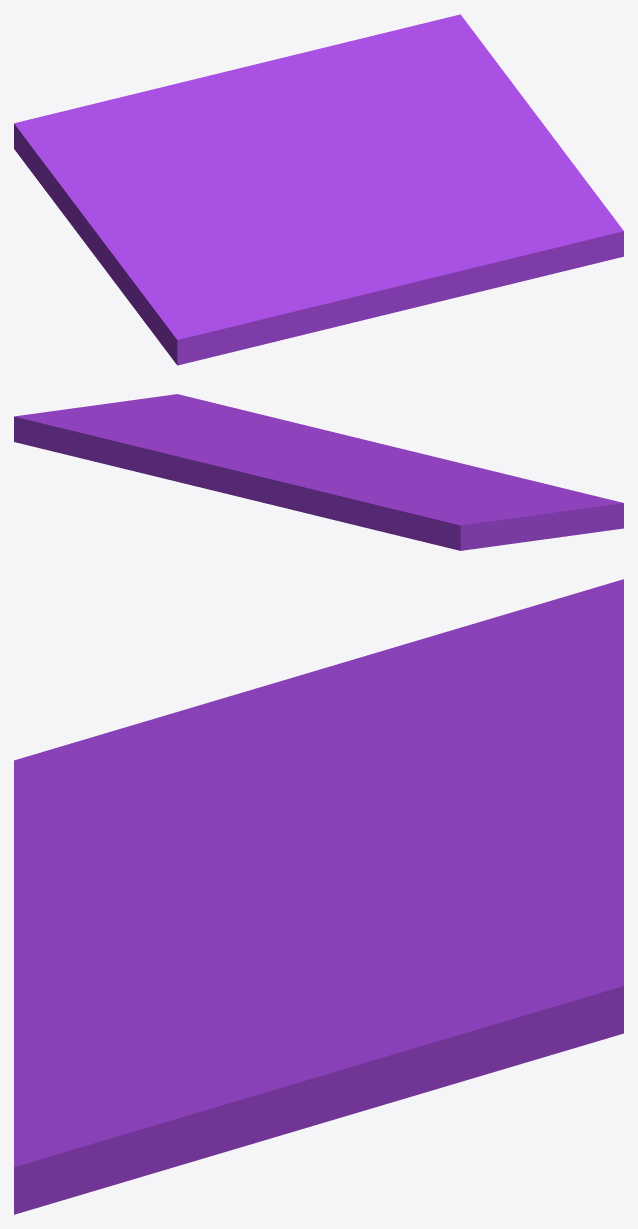
File: Window_155_chunks.fbx
3 views of the same model, one above another, from view 1: azimuth 30°, elevation 25°; view 2: azimuth 150°, elevation 25°; view 3: azimuth 270°, elevation 25° (orthographic). The views are drawn at different scales.
Parts seen in each view (by area): view 1: Window_155_0, Window_155_2, Window_155_3; view 2: Window_155_0, Window_155_3, Window_155_2; view 3: Window_155_0, Window_155_3, Window_155_2.
Part boxes in pixels (x1,y1,x2,y2): Window_155_0: [14, 90, 318, 365]; Window_155_2: [308, 129, 623, 333]; Window_155_3: [149, 14, 546, 180]; Window_155_0: [317, 460, 623, 550]; Window_155_3: [14, 404, 325, 515]; Window_155_2: [101, 394, 491, 470]; Window_155_0: [14, 579, 623, 879]; Window_155_3: [301, 701, 623, 1124]; Window_155_2: [14, 873, 316, 1214].
Size of the model in its own units: 1838 by 482 by 1165.
